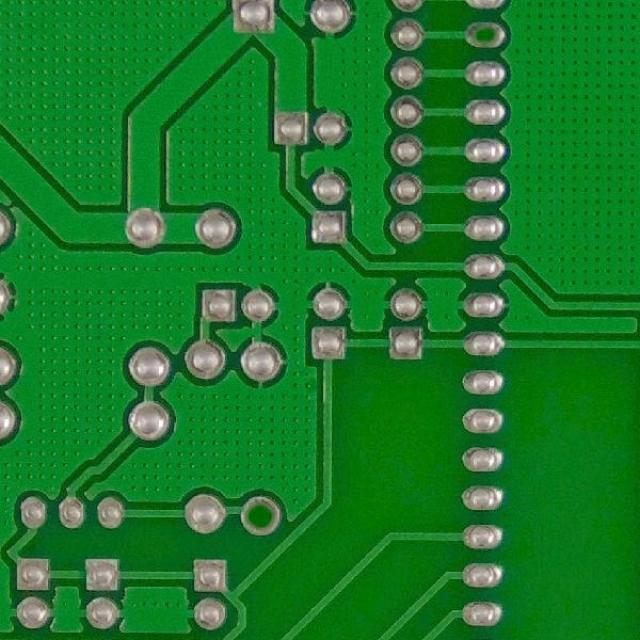missing_hole: (237, 488, 288, 541), (469, 17, 506, 51)
